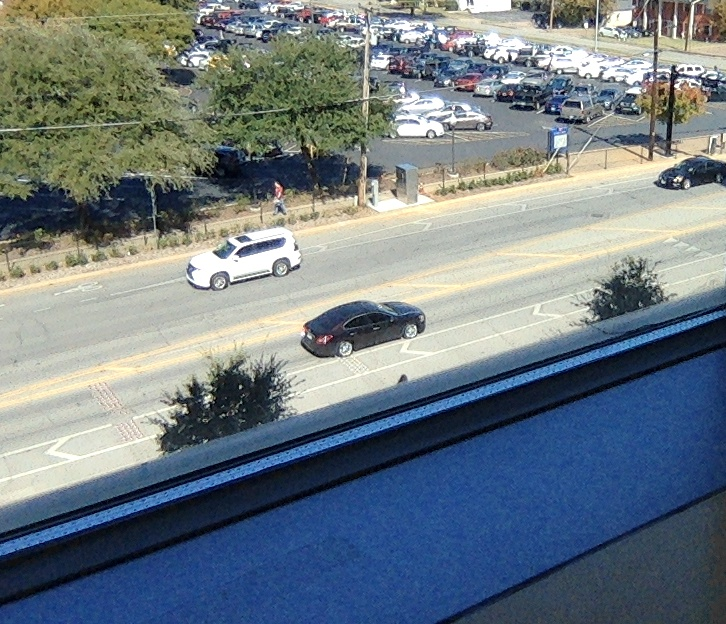car: (300, 300, 426, 359)
